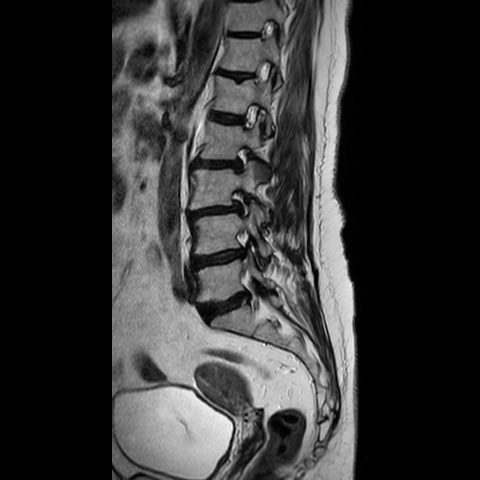LFS0: (230, 96, 268, 139)
LFS1: (223, 138, 263, 180)
LFS2: (224, 179, 262, 225)
